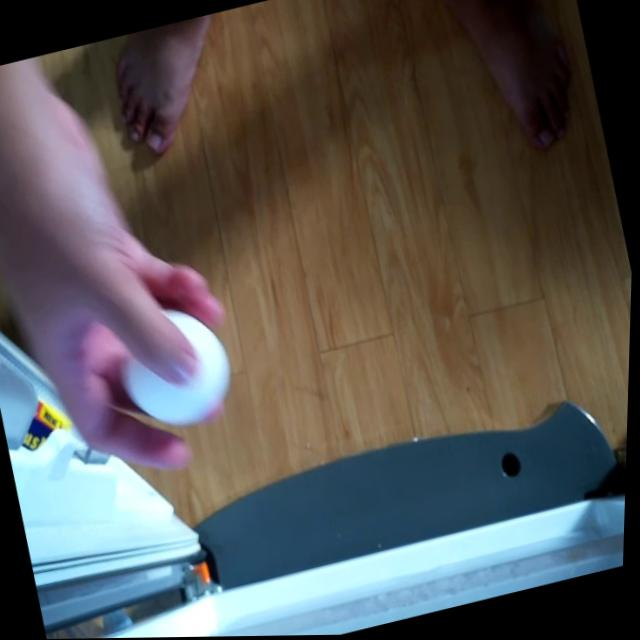egg: (113, 301, 243, 430)
